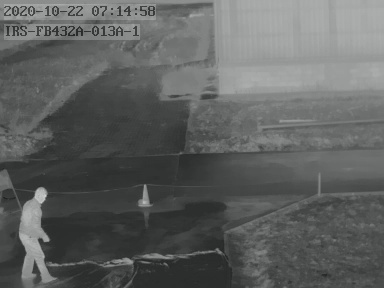person: (18, 185, 50, 284)
